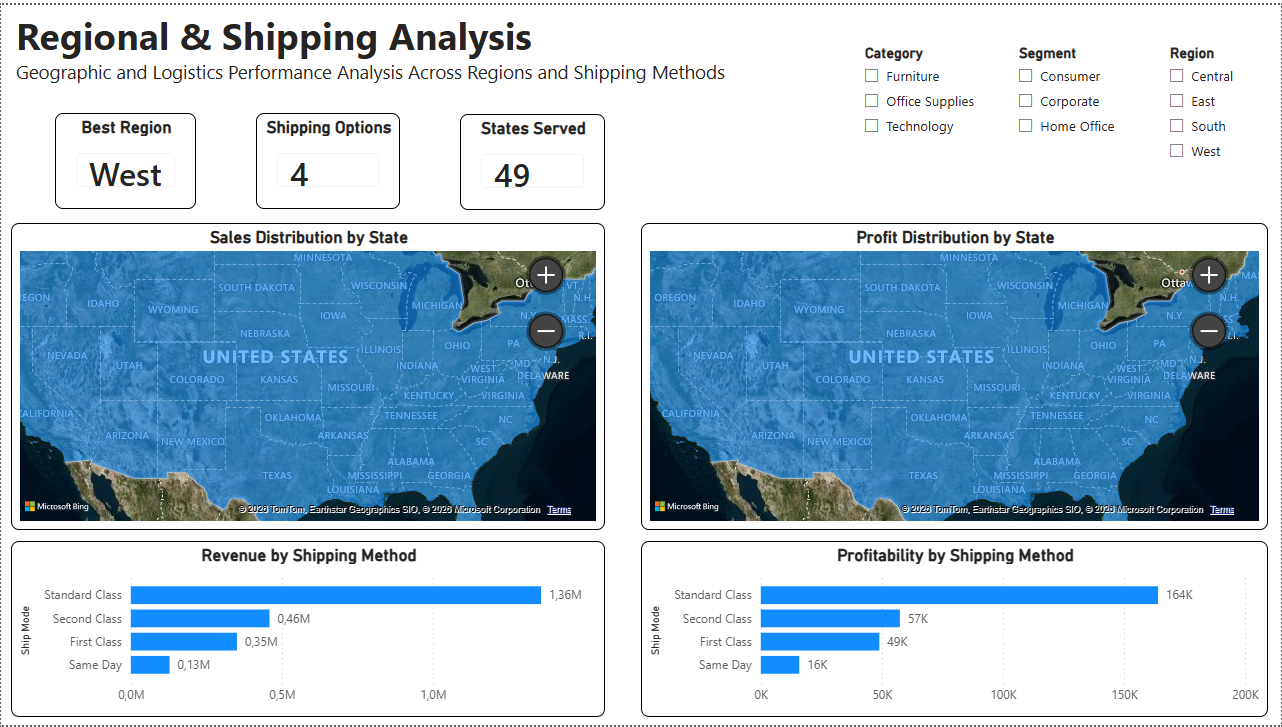

The page's visual inventory and layout, read from the dashboard file:
{"tool":"powerbi","page":{"name":"Regional Performance Analysis","canvas":[1280,720],"ordinal":2},"visuals":[{"type":"textbox","box":[9.8,0,770.4,95.4],"z":0},{"type":"cardVisual","title":"States Served","fields":{"Data":["Count(SampleSuperstore.State)"]},"box":[458.6,108.8,145.5,96.6],"z":1000},{"type":"cardVisual","title":"Shipping Options","fields":{"Data":["Count(SampleSuperstore.Ship Mode)"]},"box":[255.1,108.3,144,95.5],"z":2000},{"type":"filledMap","title":"Sales Distribution by State","fields":{"Category":["SampleSuperstore.State"]},"box":[9.8,217.7,594.3,306.9],"z":3000},{"type":"filledMap","title":"Profit Distribution by State","fields":{"Category":["SampleSuperstore.State"]},"box":[639.5,217.7,627.3,306.9],"z":4000},{"type":"clusteredBarChart","title":"Revenue by Shipping Method","fields":{"Category":["SampleSuperstore.Ship Mode"],"Y":["Sum(SampleSuperstore.Sales)"]},"box":[9.8,535.6,594.3,176.1],"z":5000},{"type":"clusteredBarChart","title":"Profitability by Shipping Method","fields":{"Y":["Sum(SampleSuperstore.Profit)"],"Category":["SampleSuperstore.Ship Mode"]},"box":[639.5,535.6,627.3,176.1],"z":6000},{"type":"slicer","fields":{"Values":["SampleSuperstore.Region"]},"box":[1155.6,35.5,124.7,170],"z":7000},{"type":"slicer","fields":{"Values":["SampleSuperstore.Category"]},"box":[851.1,35.5,154.1,149.2],"z":8000},{"type":"slicer","fields":{"Values":["SampleSuperstore.Segment"]},"box":[1005.2,35.5,150.4,149.2],"z":9000},{"type":"cardVisual","title":"Best Region","fields":{"Data":["SampleSuperstore.Best Region"]},"box":[54.2,108.3,141.1,95.5],"z":10000}]}

Visuals, with their boxes in screenshot pixels (x1, y1, x2, y2), scaled from the page's 1280x720 canvas onto the 1282x727 screenshot:
textbox: detection(10, 0, 781, 96)
"States Served" cardVisual: detection(459, 110, 605, 207)
"Shipping Options" cardVisual: detection(255, 109, 400, 206)
"Sales Distribution by State" filledMap: detection(10, 220, 605, 530)
"Profit Distribution by State" filledMap: detection(640, 220, 1269, 530)
"Revenue by Shipping Method" clusteredBarChart: detection(10, 541, 605, 719)
"Profitability by Shipping Method" clusteredBarChart: detection(640, 541, 1269, 719)
slicer - SampleSuperstore.Region: detection(1157, 36, 1281, 207)
slicer - SampleSuperstore.Category: detection(852, 36, 1007, 186)
slicer - SampleSuperstore.Segment: detection(1007, 36, 1157, 186)
"Best Region" cardVisual: detection(54, 109, 196, 206)
